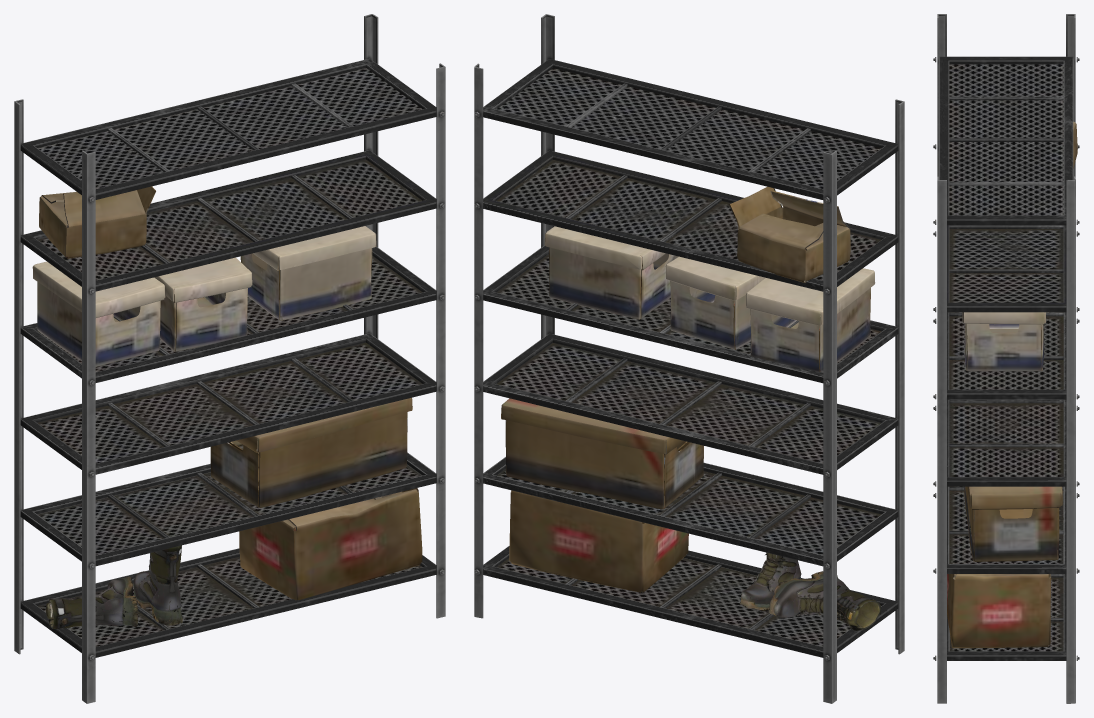
Rendered from shelf.glb.
3 renders of one model, left to right at view 1: azimuth 30°, elevation 25°; view 2: azimuth 150°, elevation 25°; view 3: azimuth 270°, elevation 25°, orthographic. The views are drawn at different scales.
Visible parts, largest first — view 1: shelf, BoxC_PI_BOX_0, BoxA_lid_PI_BOX_0, BoxB_PI_BOX_0.002, BoxB_PI_BOX_0, BoxB_PI_BOX_0.001, BoxD_PI_BOX_0, Boots1, Boots1.001; view 2: shelf, BoxA_lid_PI_BOX_0, BoxC_PI_BOX_0, BoxB_PI_BOX_0, BoxB_PI_BOX_0.002, BoxD_PI_BOX_0, BoxB_PI_BOX_0.001, Boots1.001, Boots1; view 3: shelf, BoxC_PI_BOX_0, BoxA_lid_PI_BOX_0, BoxB_PI_BOX_0.002.
Part boxes in pixels (<box>): shelf: <box>14,14,445,703</box>; BoxC_PI_BOX_0: <box>239,488,422,600</box>; BoxA_lid_PI_BOX_0: <box>210,397,412,507</box>; BoxB_PI_BOX_0.002: <box>240,226,376,320</box>; BoxB_PI_BOX_0: <box>32,261,165,366</box>; BoxB_PI_BOX_0.001: <box>154,257,252,351</box>; BoxD_PI_BOX_0: <box>39,186,155,258</box>; Boots1: <box>133,545,182,625</box>; Boots1.001: <box>46,576,138,628</box>; shelf: <box>474,14,904,703</box>; BoxA_lid_PI_BOX_0: <box>501,398,703,509</box>; BoxC_PI_BOX_0: <box>509,490,688,592</box>; BoxB_PI_BOX_0: <box>746,268,875,372</box>; BoxB_PI_BOX_0.002: <box>544,226,678,319</box>; BoxD_PI_BOX_0: <box>729,186,850,282</box>; BoxB_PI_BOX_0.001: <box>665,256,765,349</box>; Boots1.001: <box>768,571,880,631</box>; Boots1: <box>740,552,801,611</box>; shelf: <box>933,14,1079,703</box>; BoxC_PI_BOX_0: <box>947,574,1051,648</box>; BoxA_lid_PI_BOX_0: <box>964,486,1062,561</box>; BoxB_PI_BOX_0.002: <box>962,312,1046,371</box>.
Size of the model in its own units: 1.51 by 2.18 by 0.5515.
Materials: 3 (3 with a texture image).
